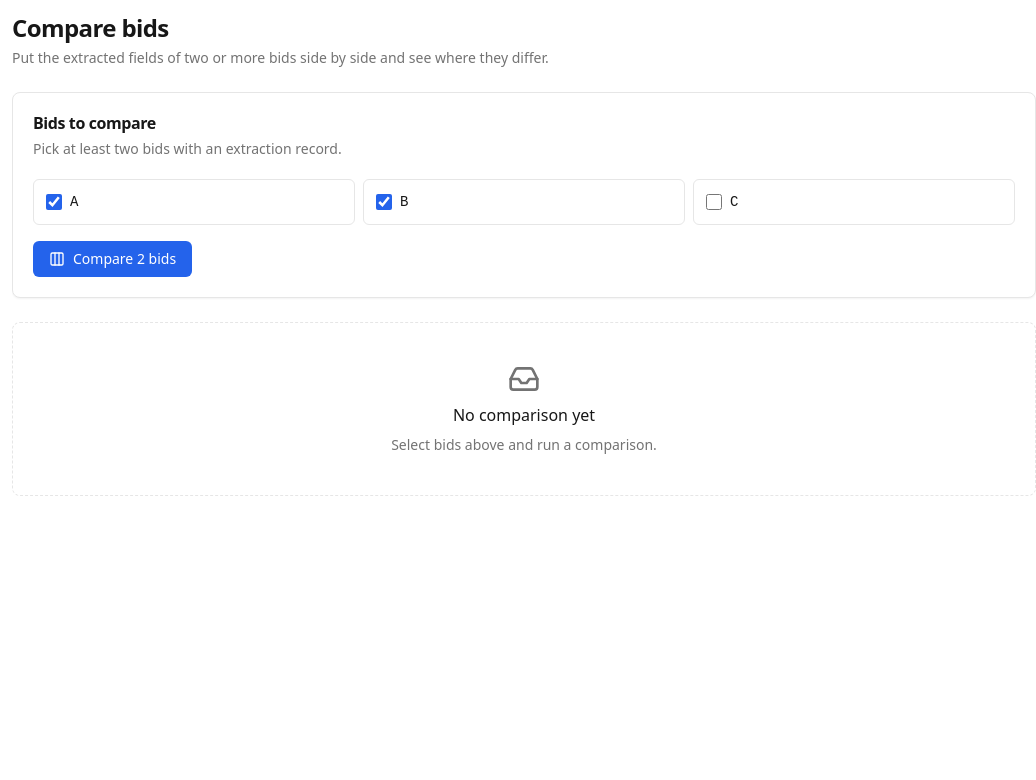
it: ComparePage › runs a comparison with the selected bids and shows the new report
Expected: the text "No comparison yet" is shown, [453,403,595,427]
Click the button "Compare 2 bids": (113, 259) [33,241,192,277]
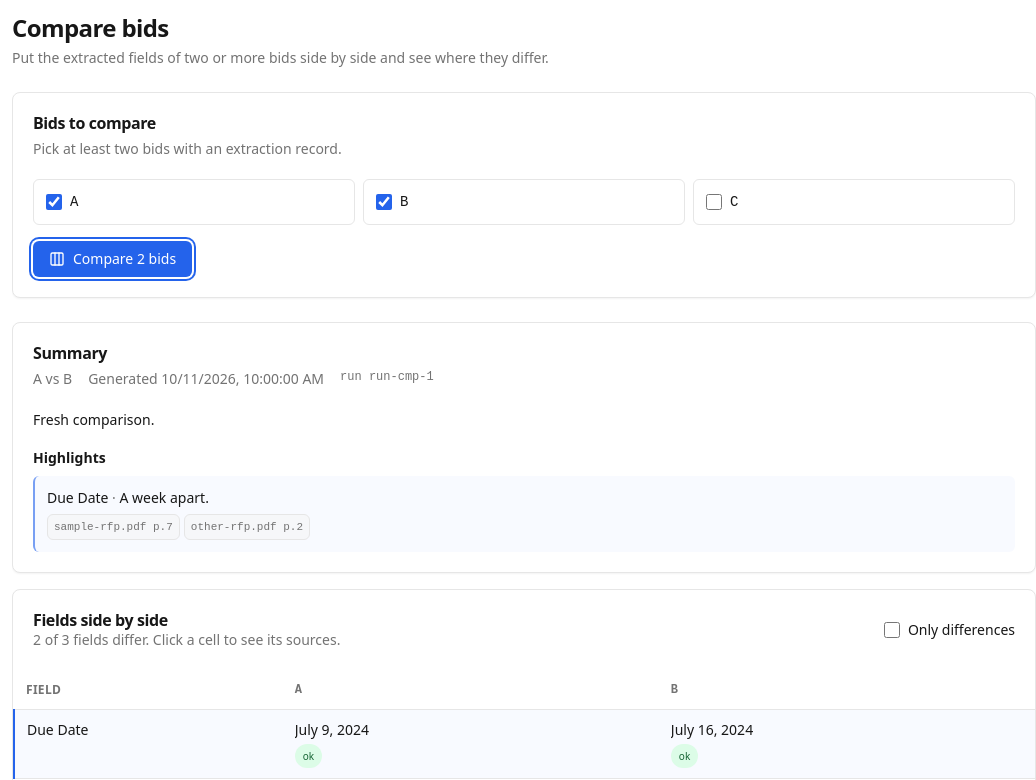
Result: the text "Fresh comparison." is shown at [33,410,154,429]
